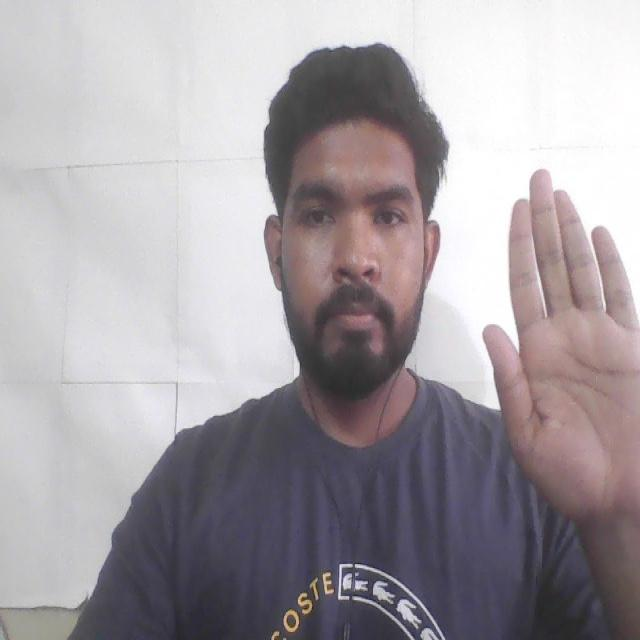Hello-Yes-No-Thanks-Please-ILU: (473, 157, 640, 548)
